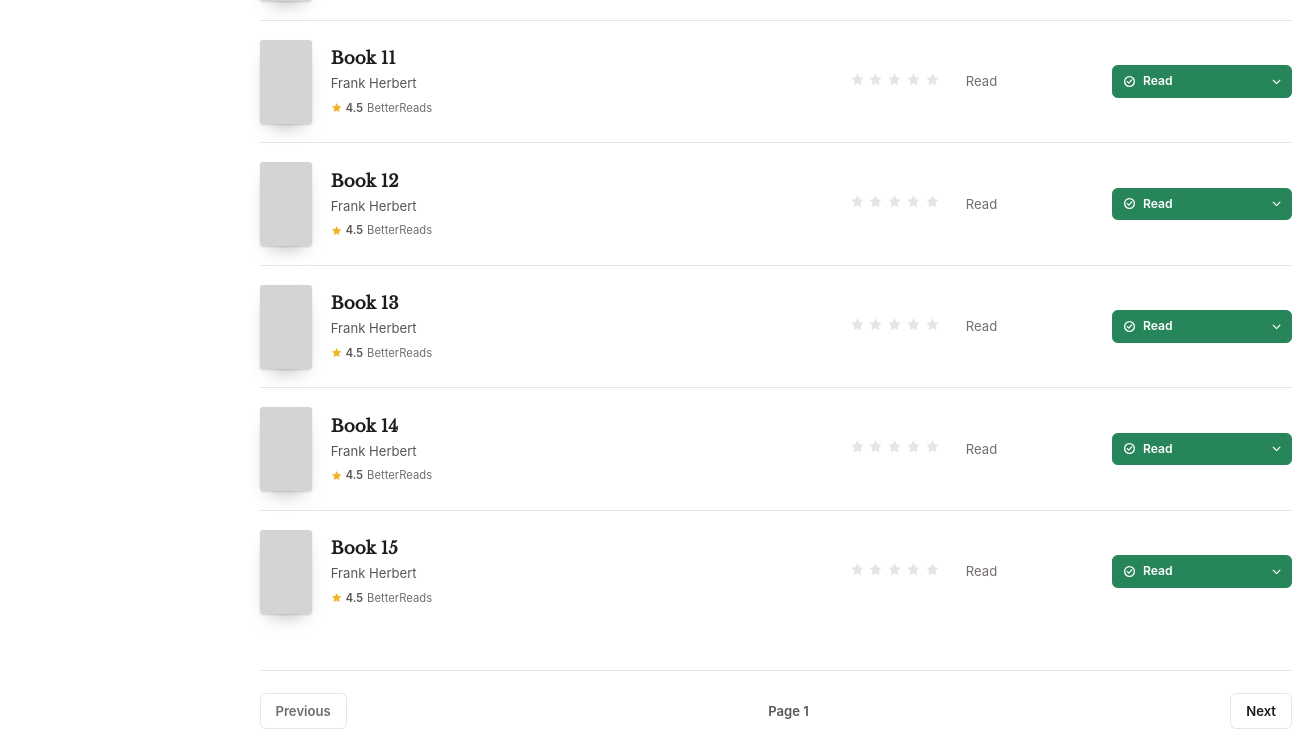
Test: ShelfList › should go back to the first page after changing shelf
(page scrolled)
Click the button "Next".
click(1261, 711)  # box [1230,693,1292,728]
(page scrolled)
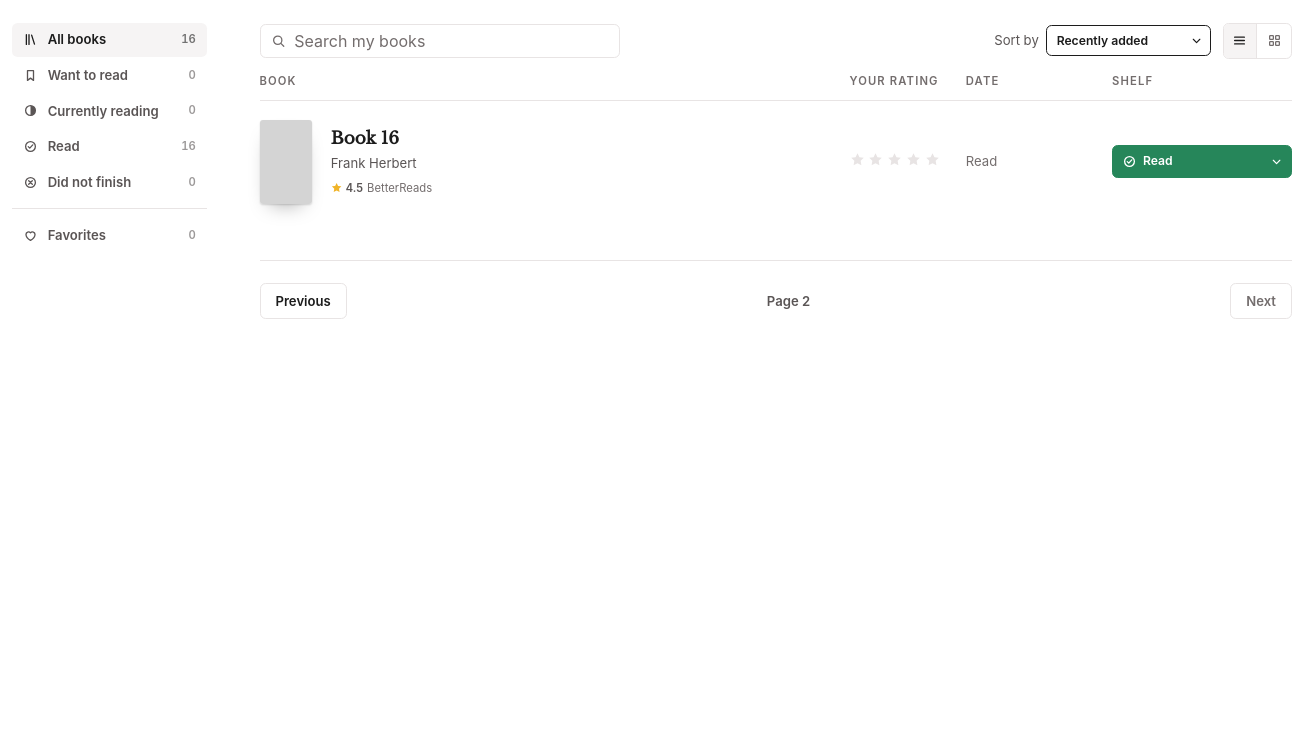
Result: the link "Book 16" is shown at [331,128,399,149]
Click the button "Read 16".
click(110, 146)  # box [12,130,207,163]
(page scrolled)
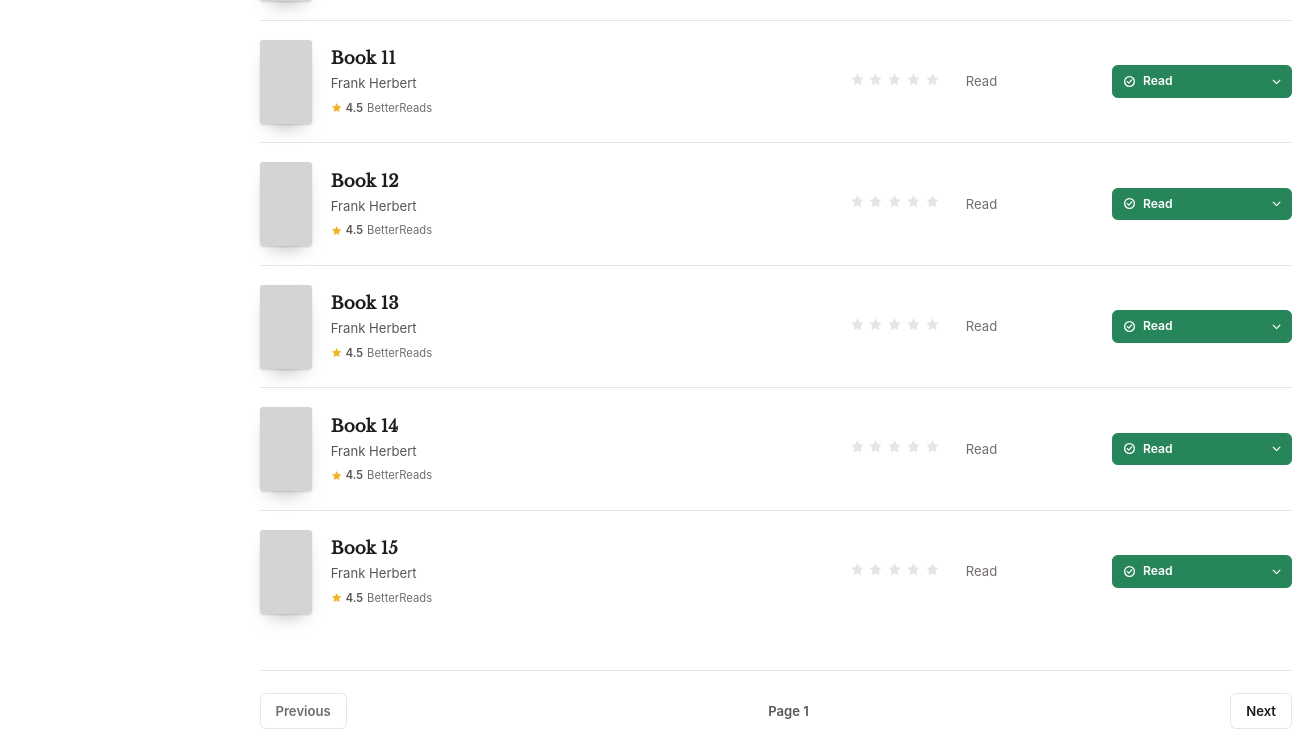
Result: the button "Previous" is disabled at [260,693,347,728]
